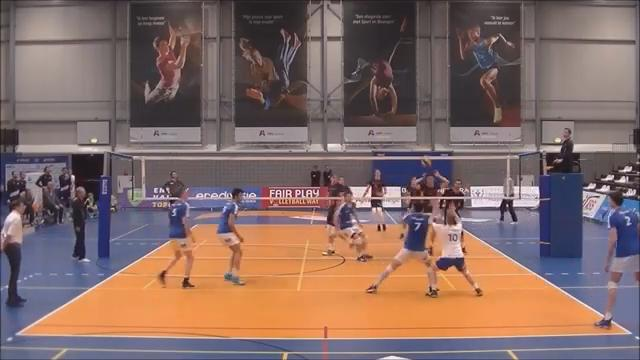Player: (595, 191, 639, 327), (158, 188, 193, 288), (334, 189, 371, 261), (217, 188, 244, 284), (440, 179, 463, 224), (322, 199, 340, 255), (417, 170, 448, 196), (362, 169, 385, 200), (406, 177, 423, 213)
Receive: (365, 197, 434, 295), (427, 201, 485, 298)
ball: (421, 155, 431, 167)
